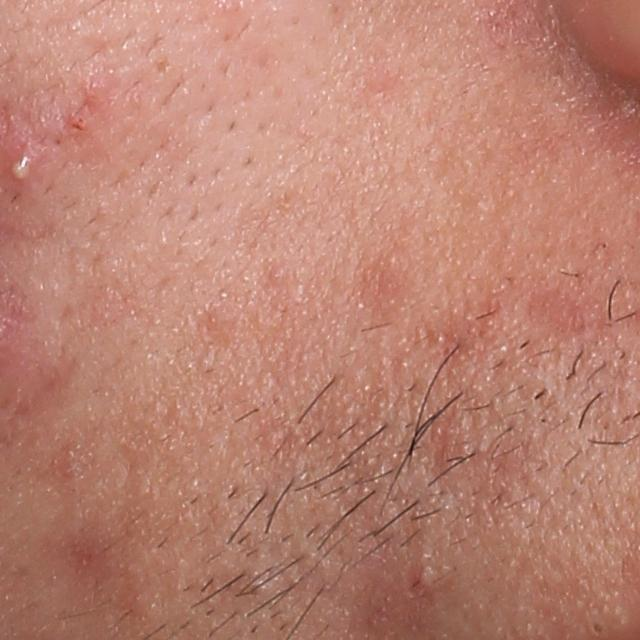comedo: (588, 618, 607, 640)
pustule: (4, 151, 41, 186)
